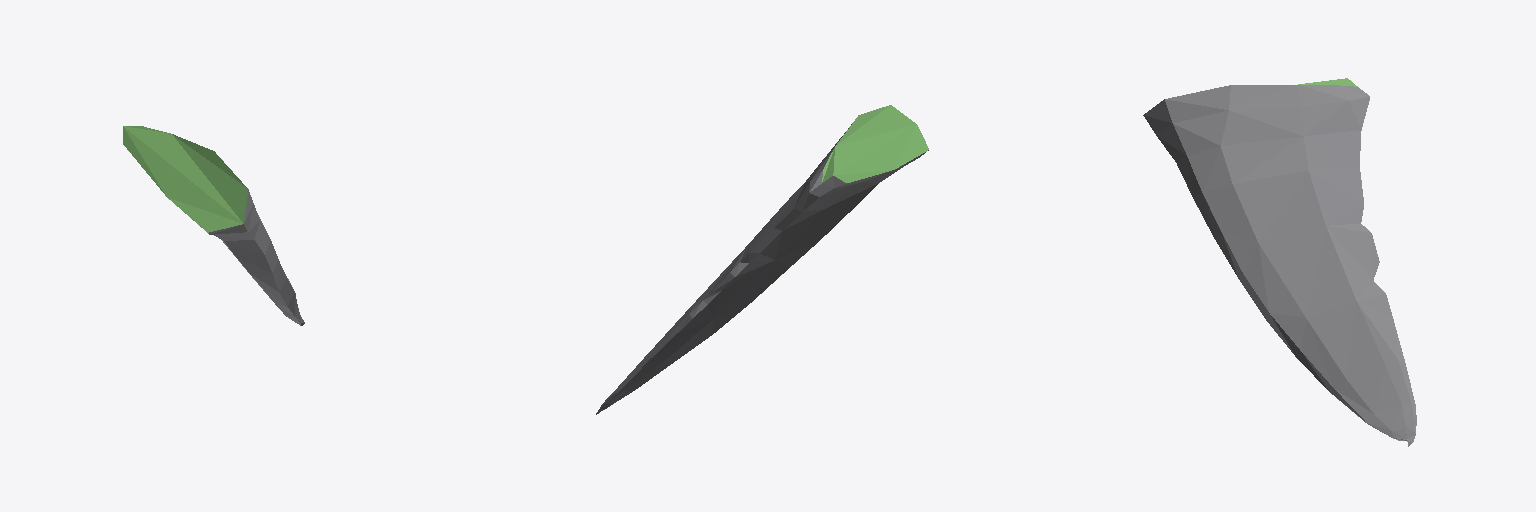
Rendered from AletaIzqTiburon.obj.
3 views of the same model, side by side, from view 1: azimuth 30°, elevation 25°; view 2: azimuth 150°, elevation 25°; view 3: azimuth 270°, elevation 25° (orthographic).
Visible parts, largest first — view 1: AletaIzq; view 2: AletaIzq; view 3: AletaIzq.
Boxes of the visible parts, box(x1,y1,x2,y2) form: AletaIzq: box(123, 126, 304, 325); AletaIzq: box(596, 105, 928, 414); AletaIzq: box(1143, 78, 1416, 446).
Size of the model in its own units: 2.81 by 3.46 by 3.09.